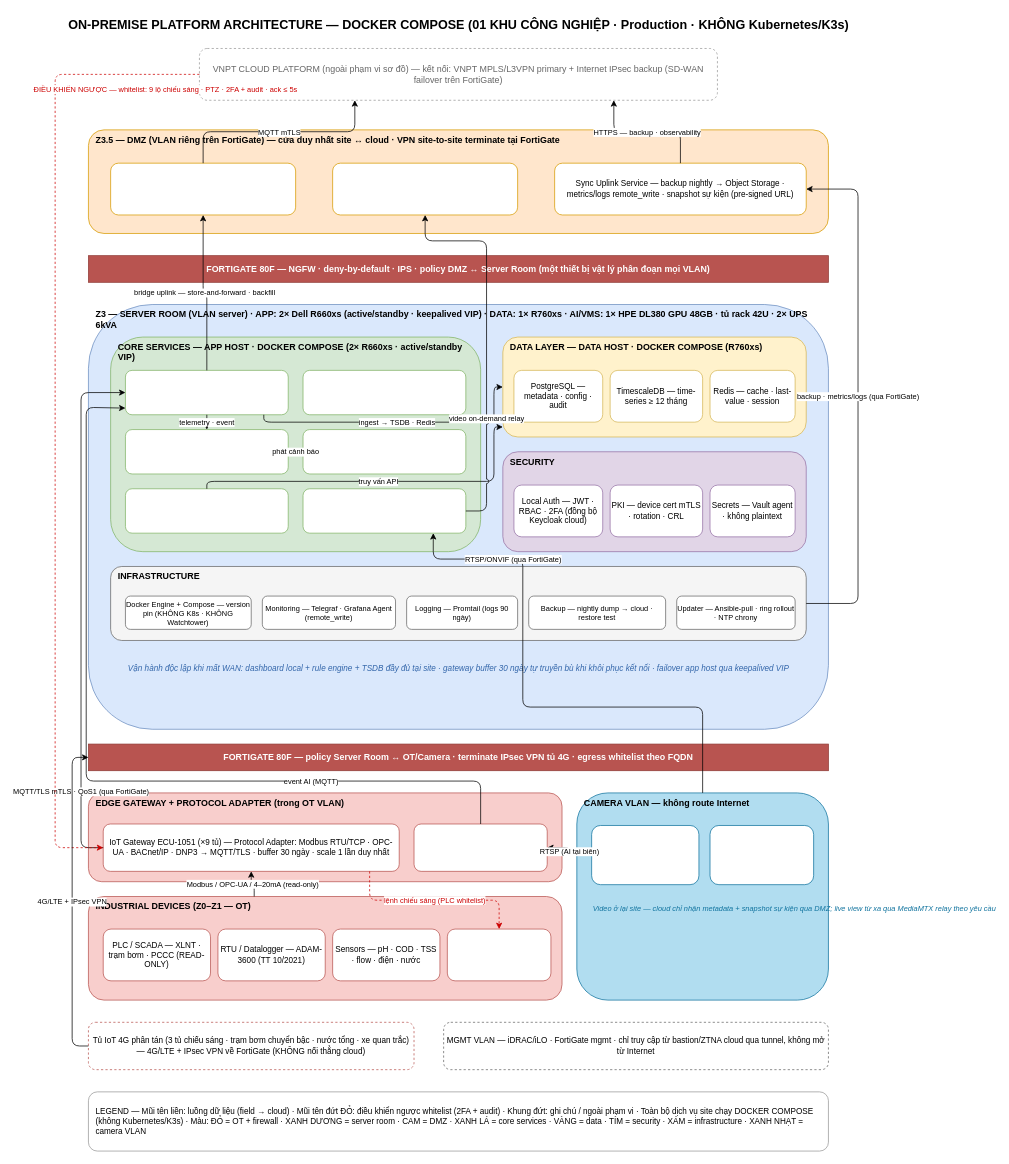
Some shapes in this 1009 by 1164 pixel diagram are drawn without their labels. The centre of each missing label's shape, as x and y in pixels:
Alarm · Notification — vòng đời cảnh báo · màn hình IOC · email/Telegram: [384,451]
Camera IP / PTZ — RTSP · ONVIF (27 bullet + PTZ + Smart Pole): [645,855]
Device Config Agent — cấu hình gateway (as-built) · nhận config/OTA từ cloud: [384,392]
Edge AI Box (Jetson Orin) — AI khói/lửa tại biên: [480,847]
EMQX Bridge — uplink MQTT mTLS · store-and-forward · cờ backfill: [203,188]
EMQX Edge Broker — MQTT mTLS · ACL theo cert · ranh giới nghiệm thu 2 đội: [206,392]
Local API + IOC Dashboard (sau Nginx) — vận hành độc lập khi mất cloud: [206,510]
MediaMTX Relay — video on-demand (WebRTC/HLS), giới hạn stream: [425,188]
NVR — footage 2MP lưu 30 ngày (local only): [761,855]
Rule Engine — đánh giá ngưỡng · xử lý sự kiện (độ trễ ≤ 2s): [206,451]
Tủ chiếu sáng (PLC 9 lộ) · đồng hồ DN300/250: [499,954]
VMS + AI Analytics — GPU DL380 · sự kiện an ninh/giao thông: [384,510]
